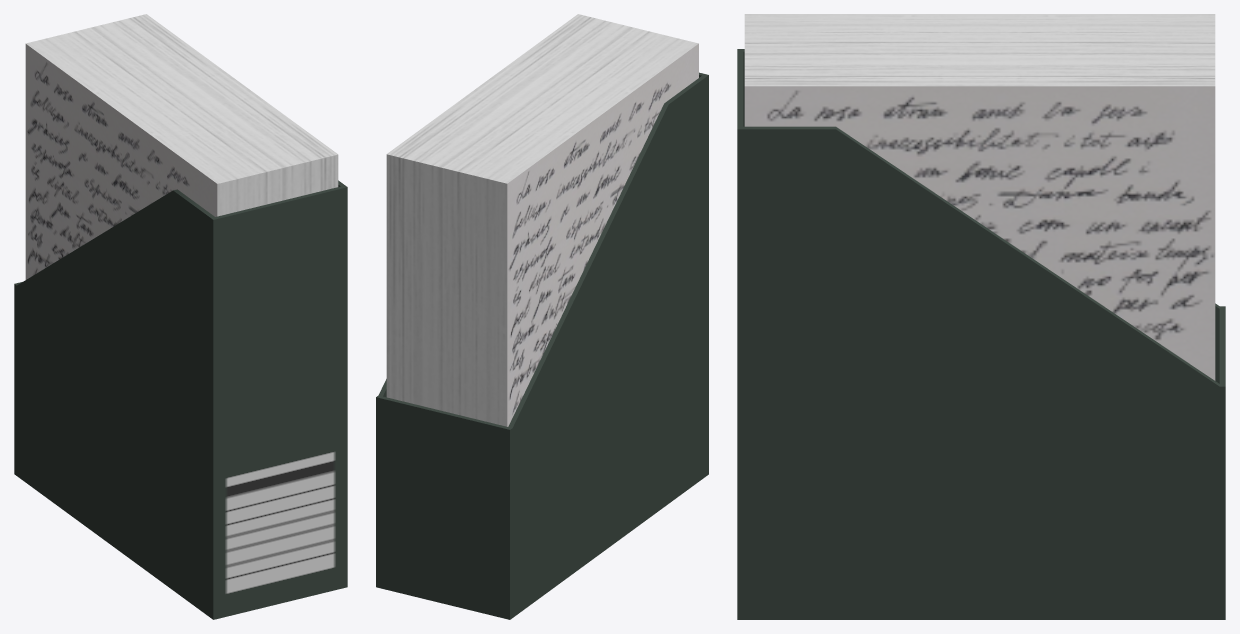
Rendered from office folder12.FBX.
3 views of the same model, side by side, from view 1: azimuth 30°, elevation 25°; view 2: azimuth 150°, elevation 25°; view 3: azimuth 270°, elevation 25° (orthographic). The views are drawn at different scales.
Visible parts, largest first — view 1: office folder12; view 2: office folder12; view 3: office folder12.
Boxes of the visible parts, x1=… form: office folder12: x1=14, y1=14, x2=347, y2=619; office folder12: x1=376, y1=14, x2=708, y2=619; office folder12: x1=737, y1=14, x2=1225, y2=619.
Size of the model in its own units: 3.92 by 10.07 by 12.06.
Materials: 1 (1 with a texture image).
